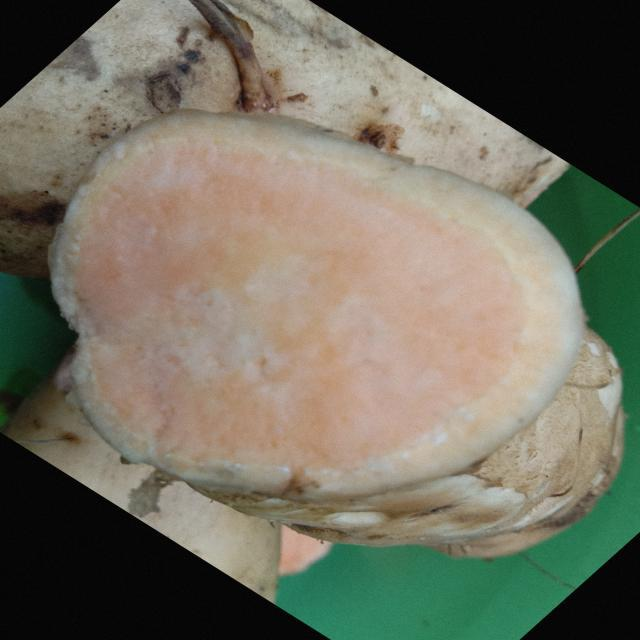Healthy Sweet Potato: (50, 110, 583, 500)
